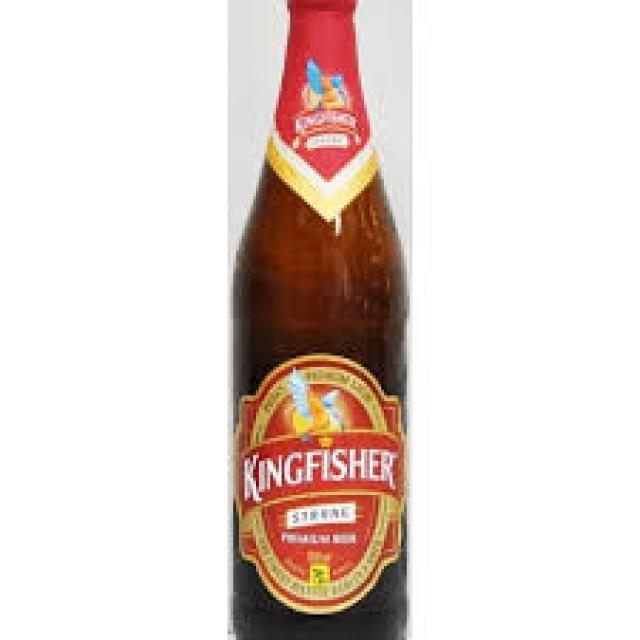Anorganik: (230, 0, 407, 637)
